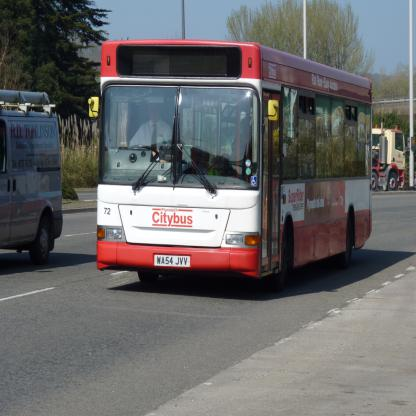Bus: (89, 39, 376, 278)
